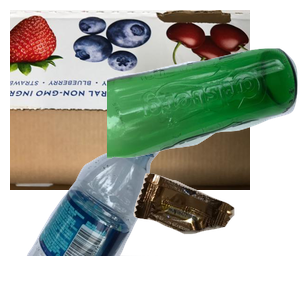cardboard: (10, 10, 250, 190)
glass: (107, 46, 300, 197)
plastic: (24, 120, 182, 300)
trash: (131, 171, 300, 300)
